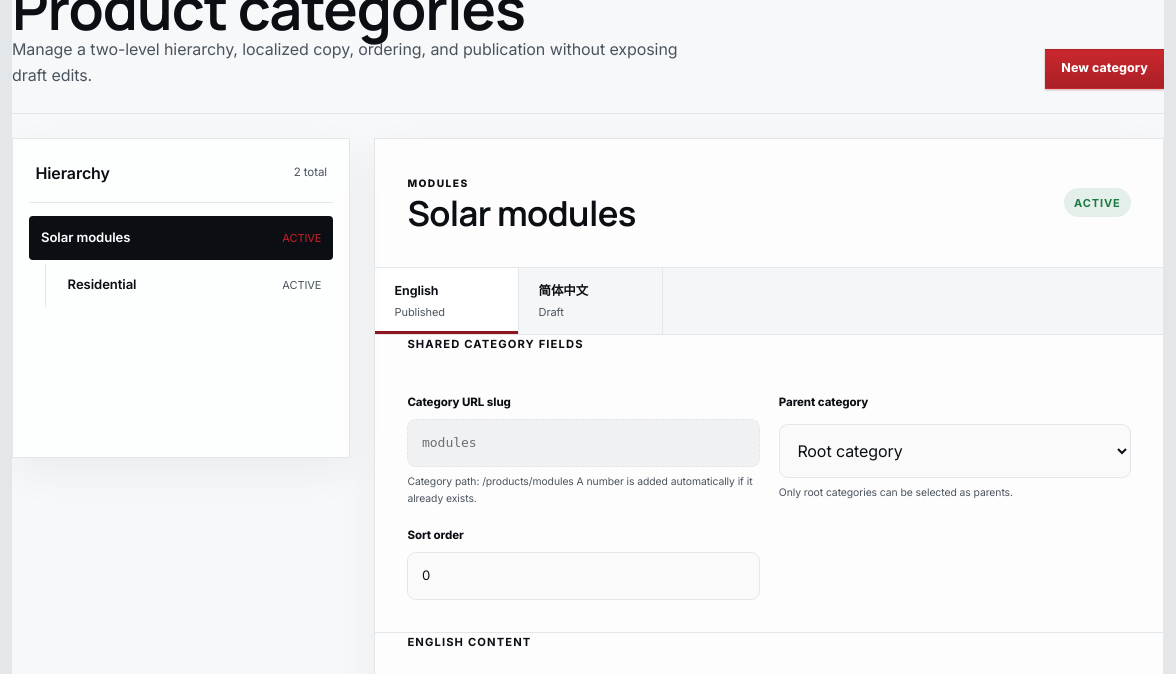
Scenario: category manager › creates an English draft and exposes only root categories as parents
Expected: the field showing "modules" is shown, [407,418,760,466]
Step 1. Click the button "New category" → (1105,69), box [1045,49,1164,89]
(page scrolled)
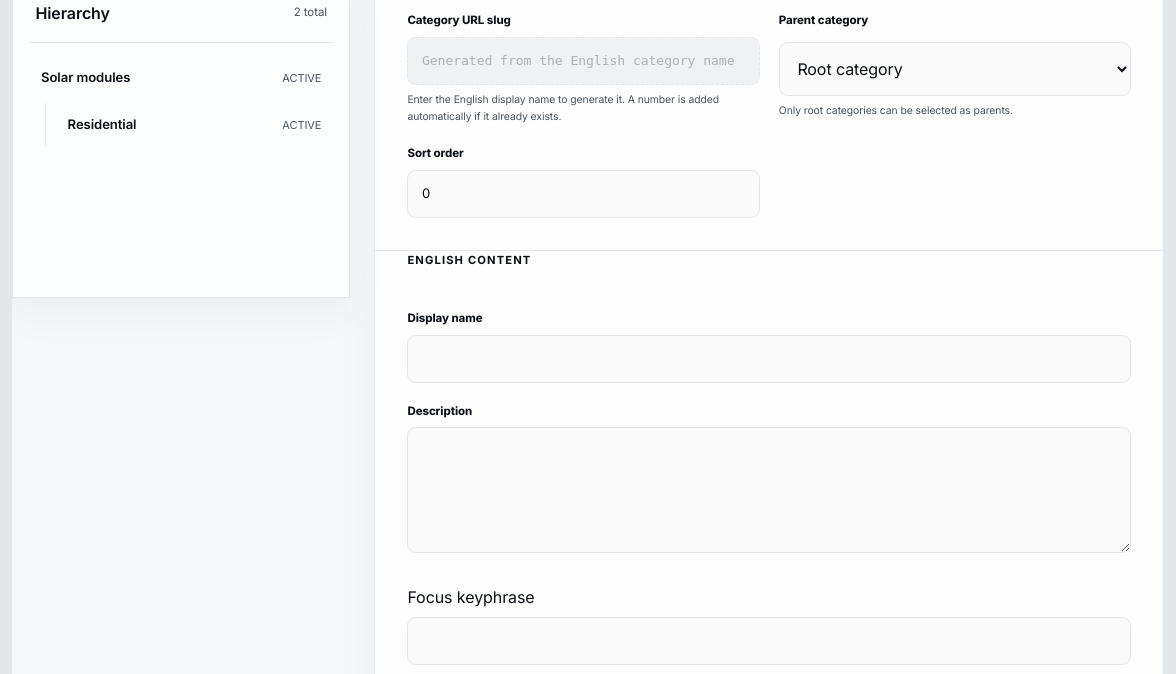
Step 2. Type "Energy storage" into the field labelled "Display name" → (769,359), box [407,335,1131,383]
(page scrolled)
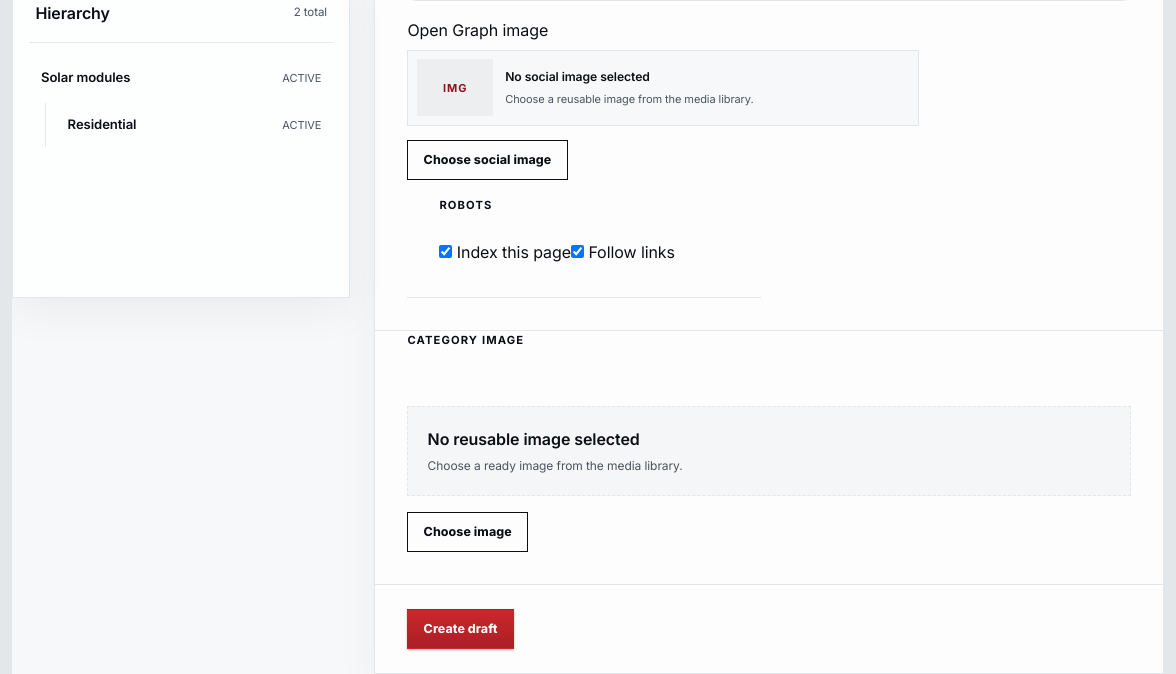
Step 3. Click the button "Create draft" → (461,629), box [407,609,514,649]
(page scrolled)
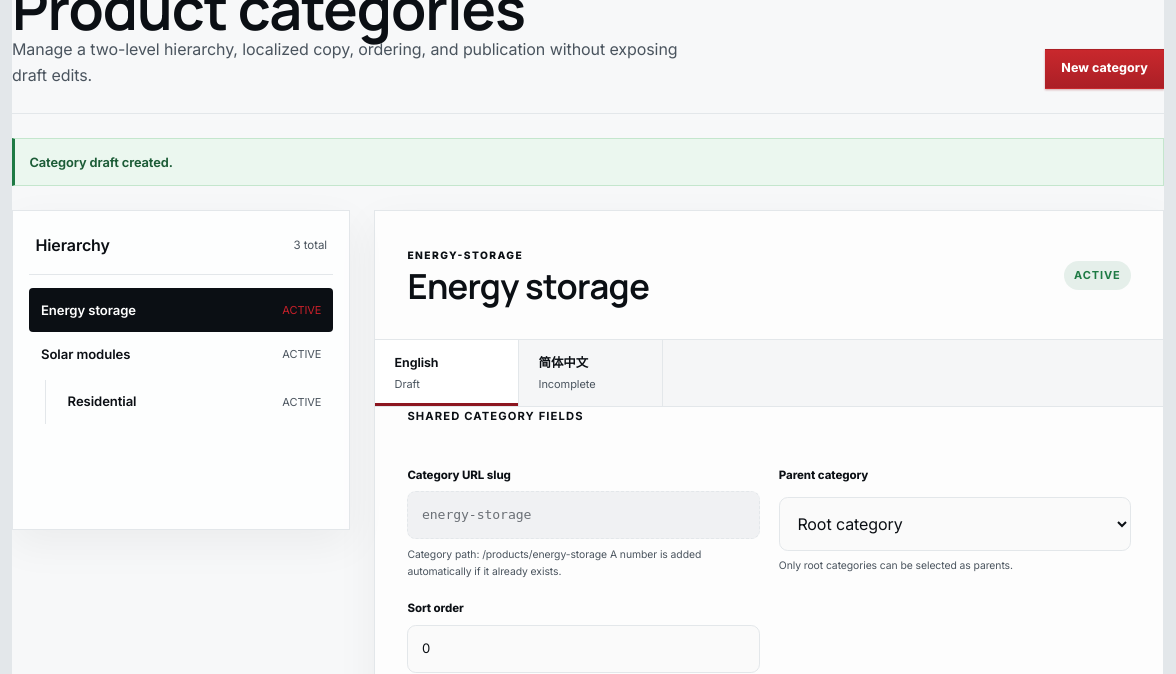
Expected: the message reads "Category draft created.", [29,154,173,170]
